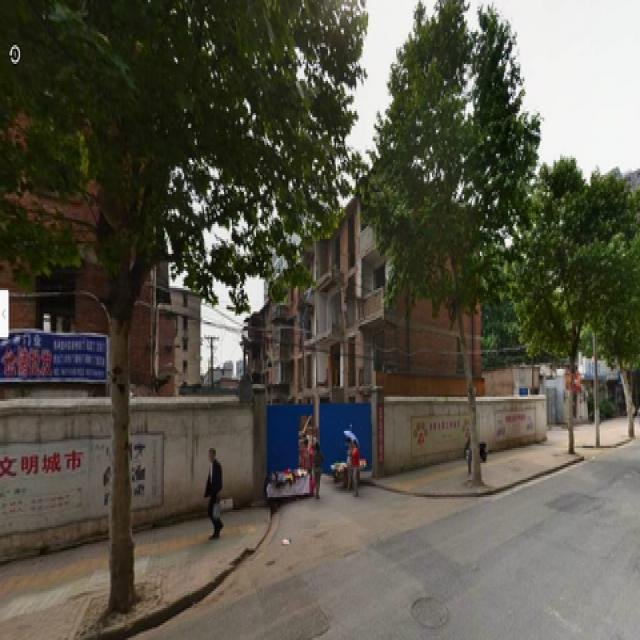meta: (376, 2, 535, 480)
